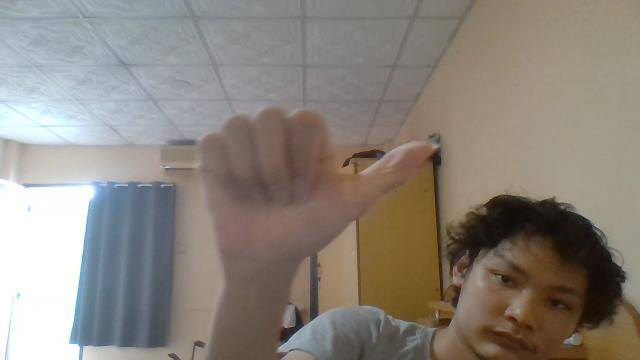left: (198, 106, 438, 266)
